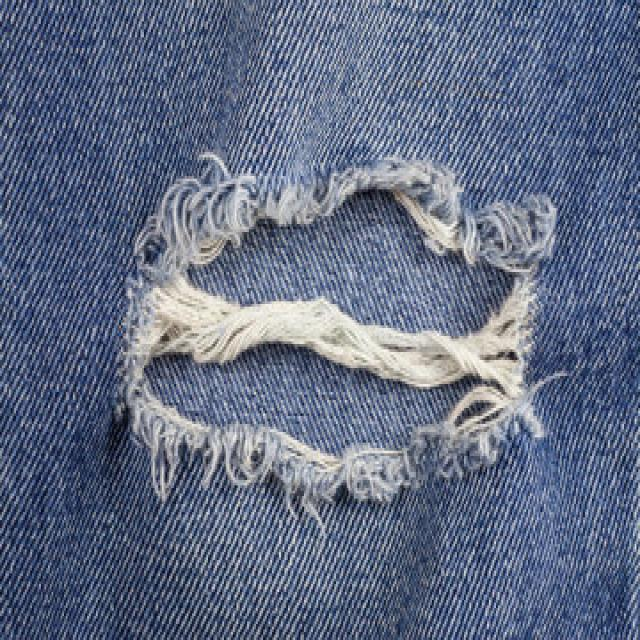Hole: (121, 154, 558, 510)
